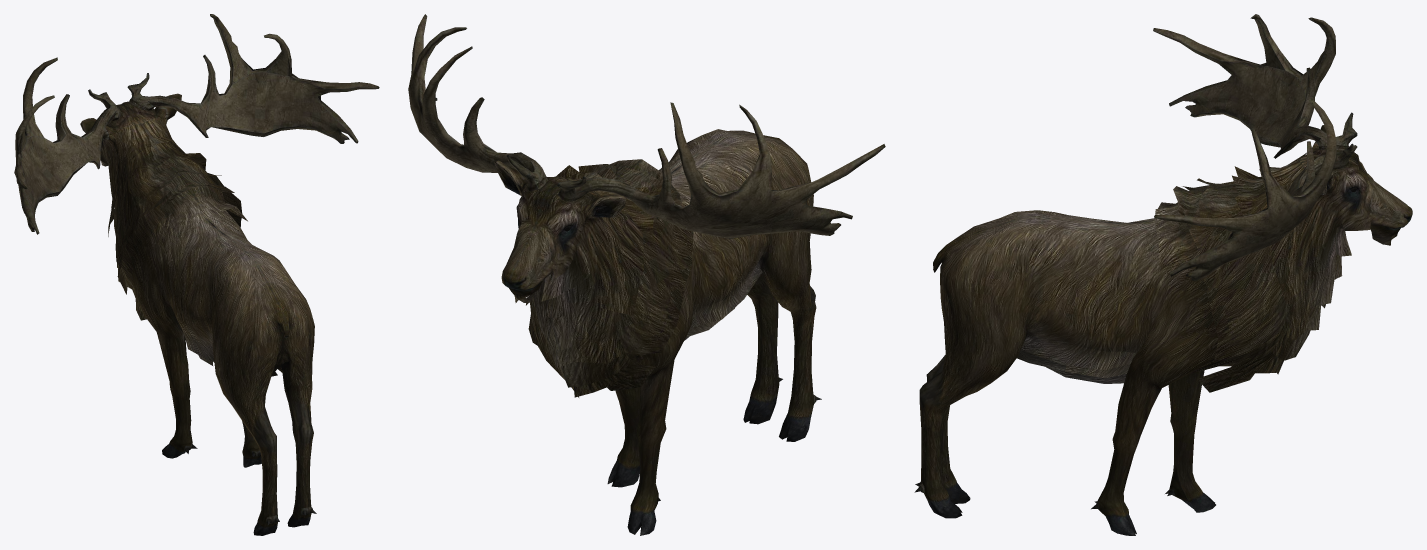
The model's file is deer.fbx.
3 renders of one model, left to right at view 1: azimuth 30°, elevation 25°; view 2: azimuth 150°, elevation 25°; view 3: azimuth 270°, elevation 25°, orthographic. The views are drawn at different scales.
Visible parts, largest first — view 1: U3DMesh; view 2: U3DMesh; view 3: U3DMesh.
Boxes of the visible parts, x1,y1,x2,y2 form: U3DMesh: (14,14,379,535); U3DMesh: (408,14,885,535); U3DMesh: (914,14,1412,535).
Bounding box in the file's own units: 209 × 218 × 215.
Materials: 1 (1 with a texture image).
